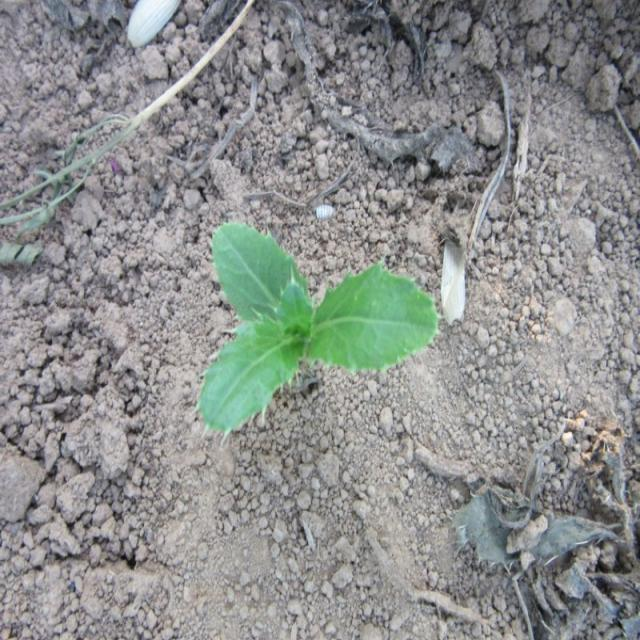cs: (196, 218, 445, 440)
